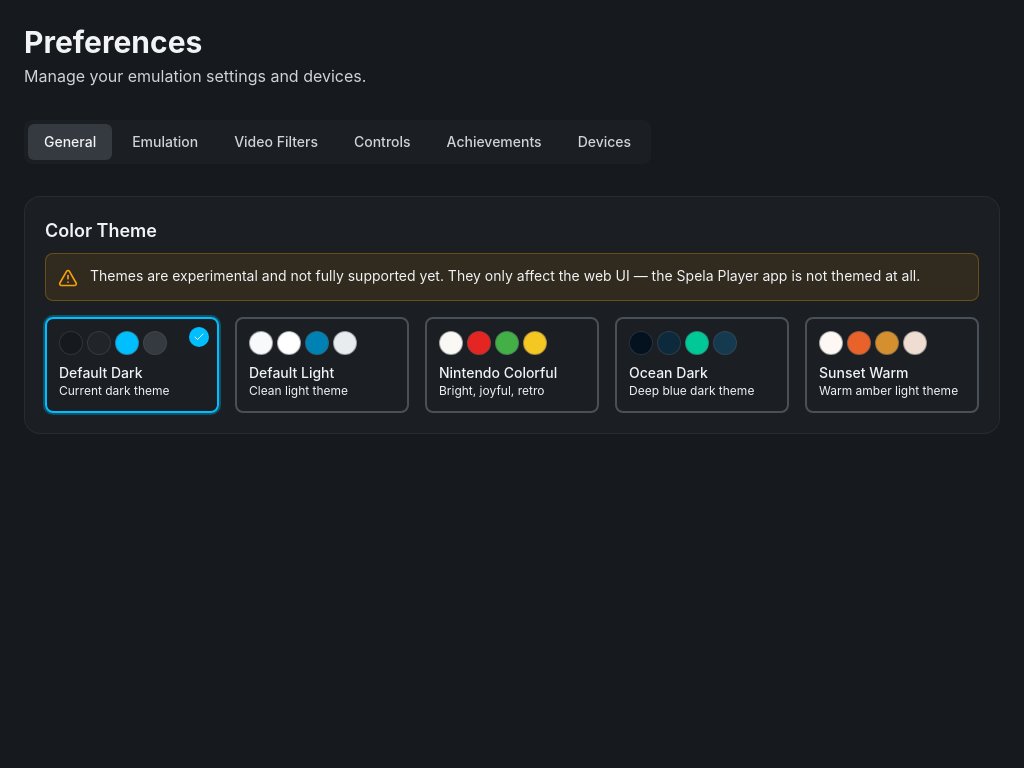
Test case: PreferencesPage › opens delete confirmation modal
Click the tab "Devices": (604, 142) [562, 124, 647, 160]
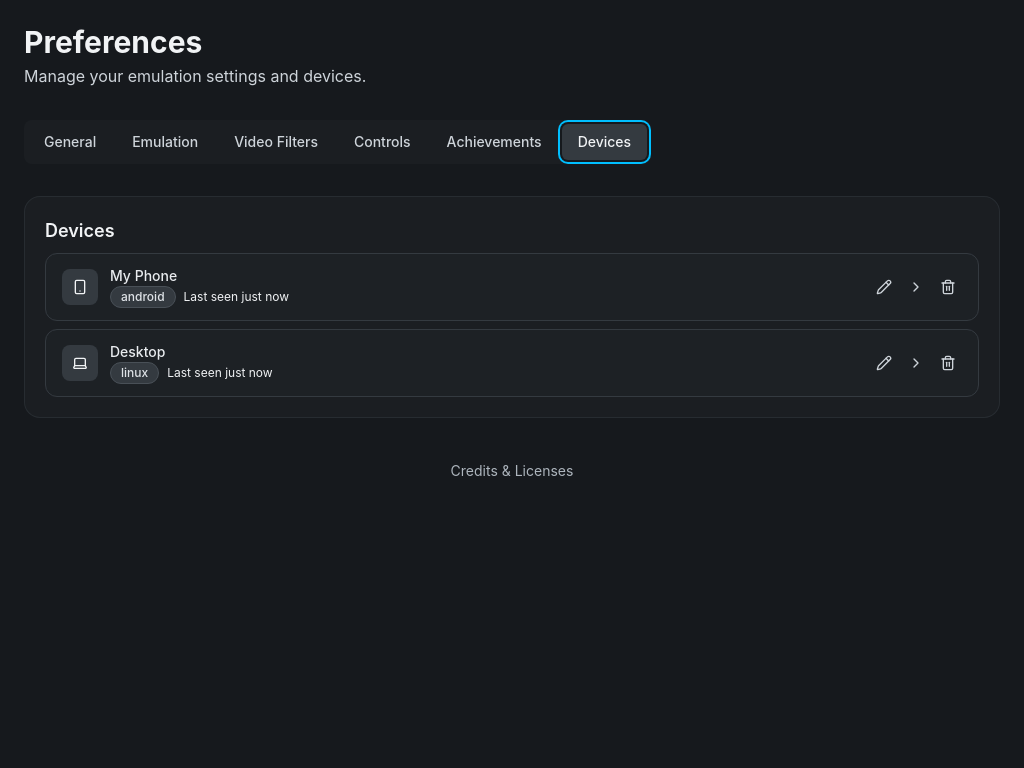
Click the button titled "Delete device" in the row of "My Phone": (948, 287) [934, 273, 962, 301]
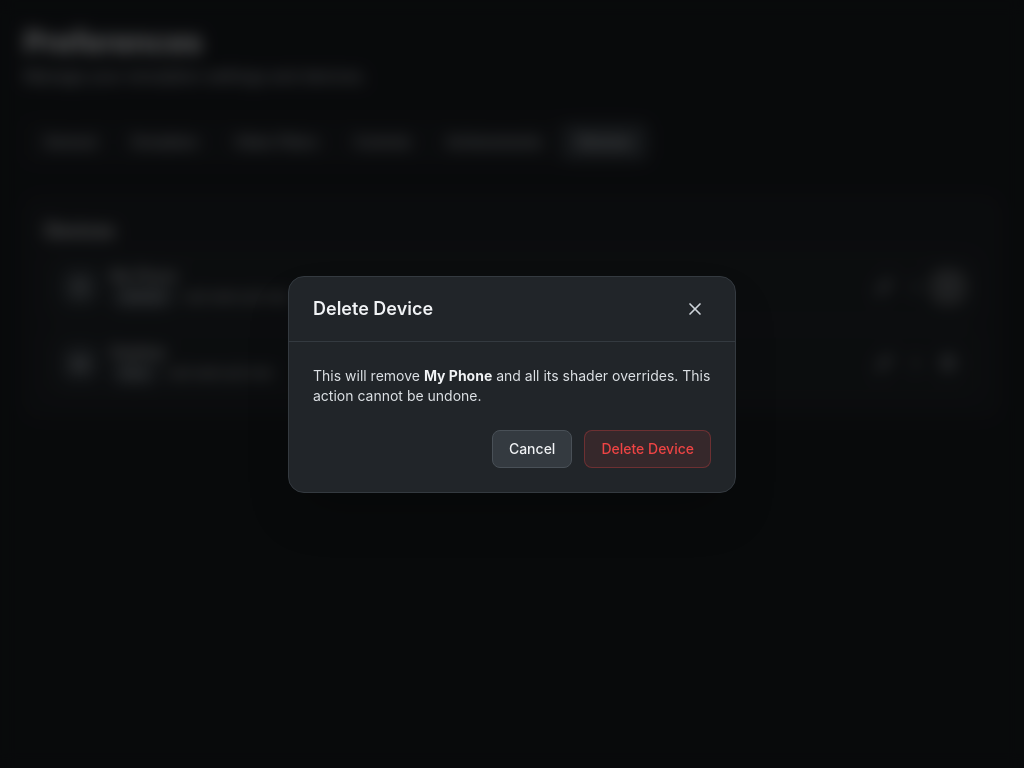
Expected: the heading "Delete Device" is shown, [313, 294, 433, 322]
Expected: the text "This will remove" is shown, [313, 366, 420, 384]
